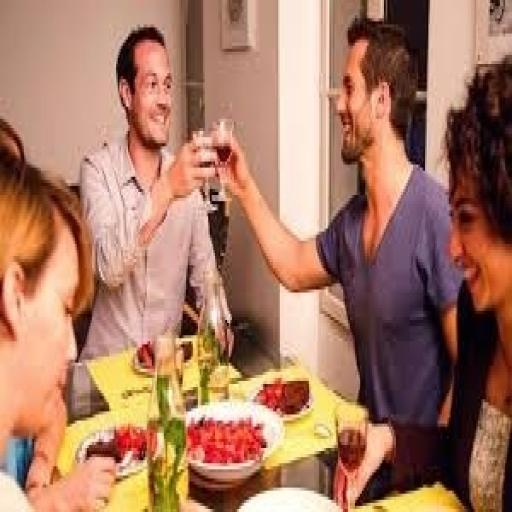eating: (205, 12, 466, 506), (77, 21, 235, 366), (0, 113, 118, 509)
